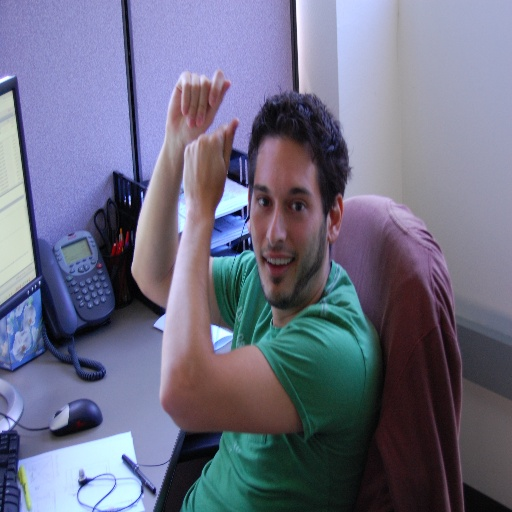hand: (165, 87, 234, 276), (166, 68, 232, 152)
